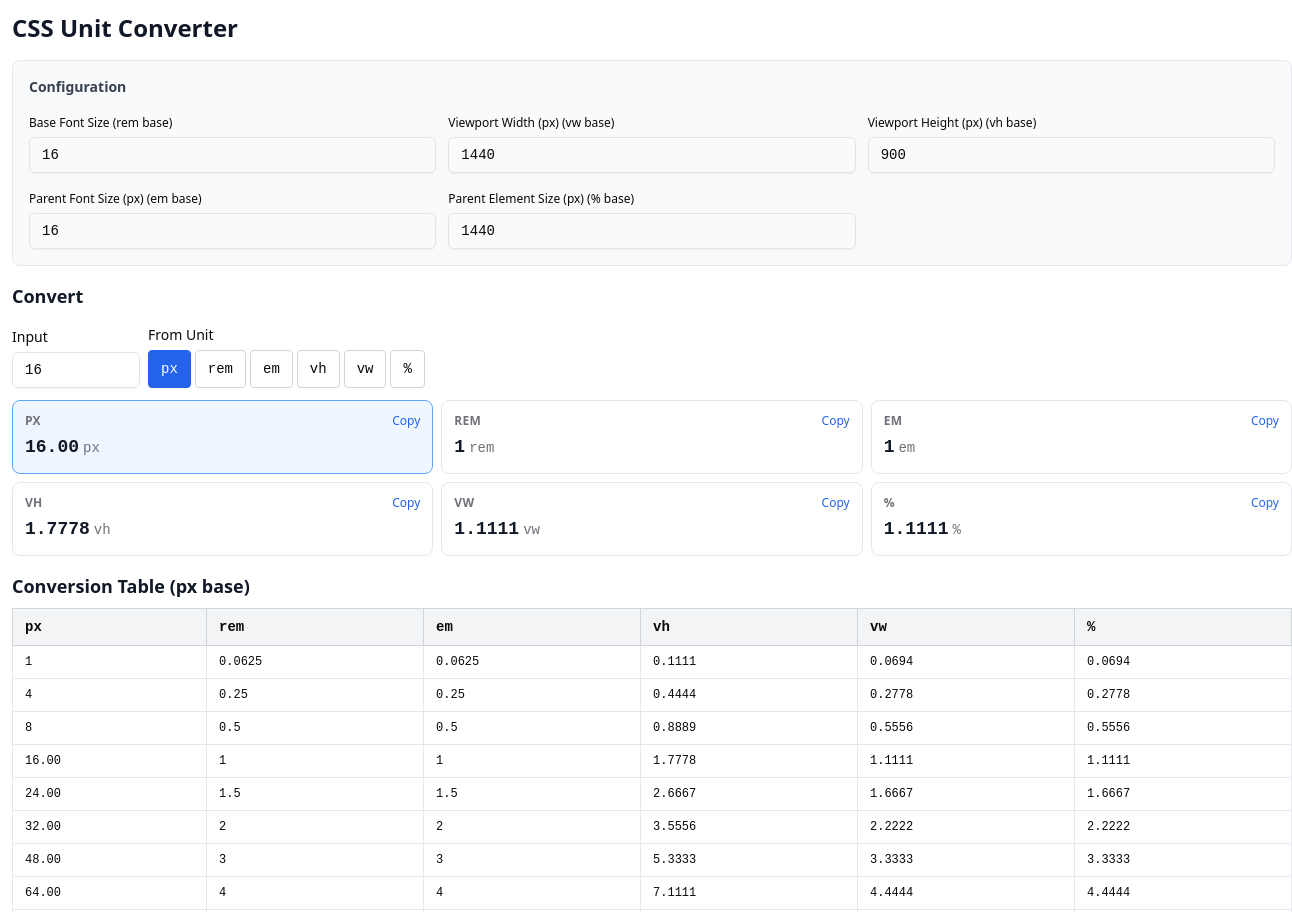
Test: CssUnitConverter › px to rem conversion › should convert 8px to 0.5rem
Replace the text in the number field with test id "value-input" with "8": (76,370) [12,352,140,388]
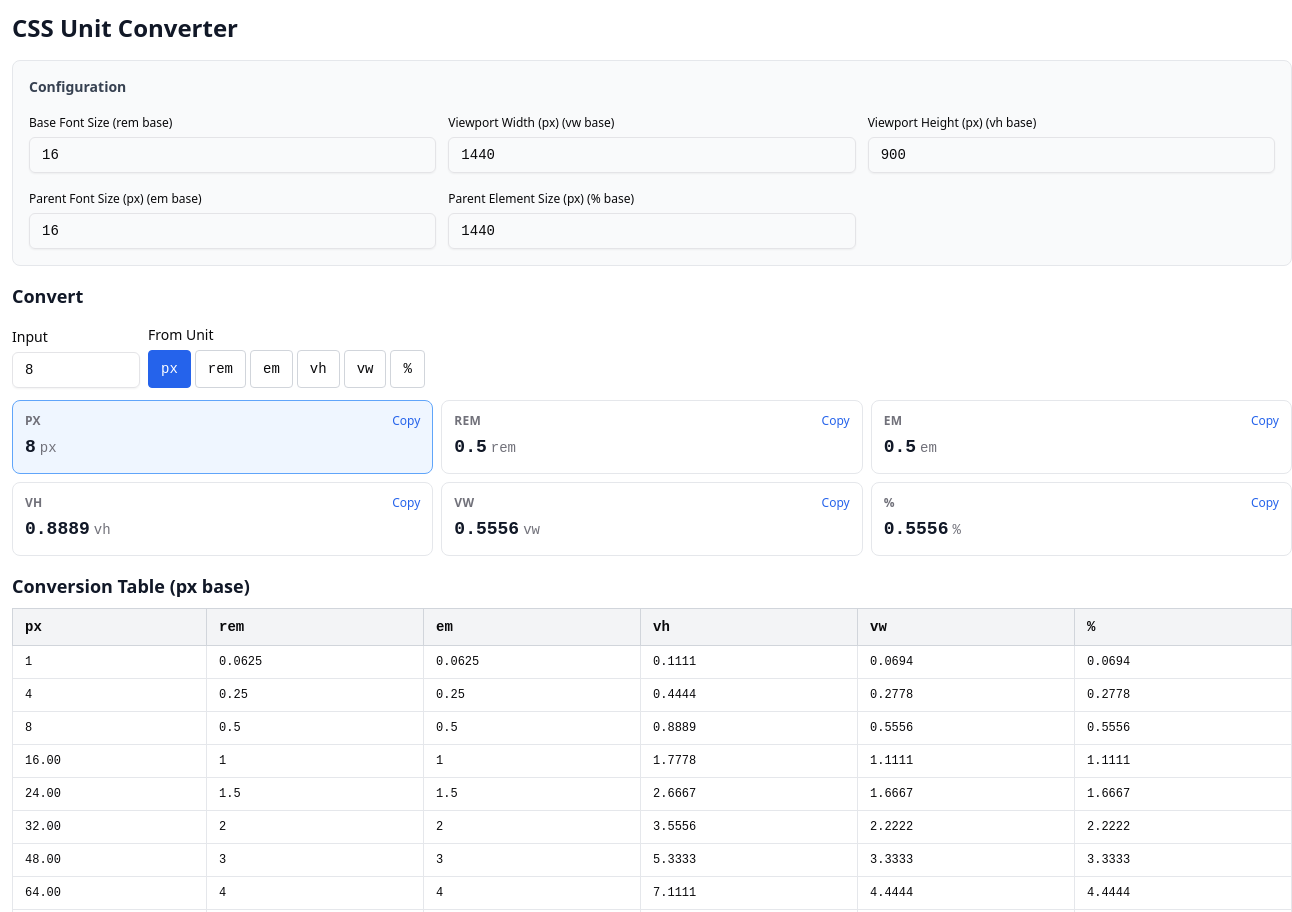
Check: the element with test id "result-rem" shows "0.5", box [454,437,487,457]
